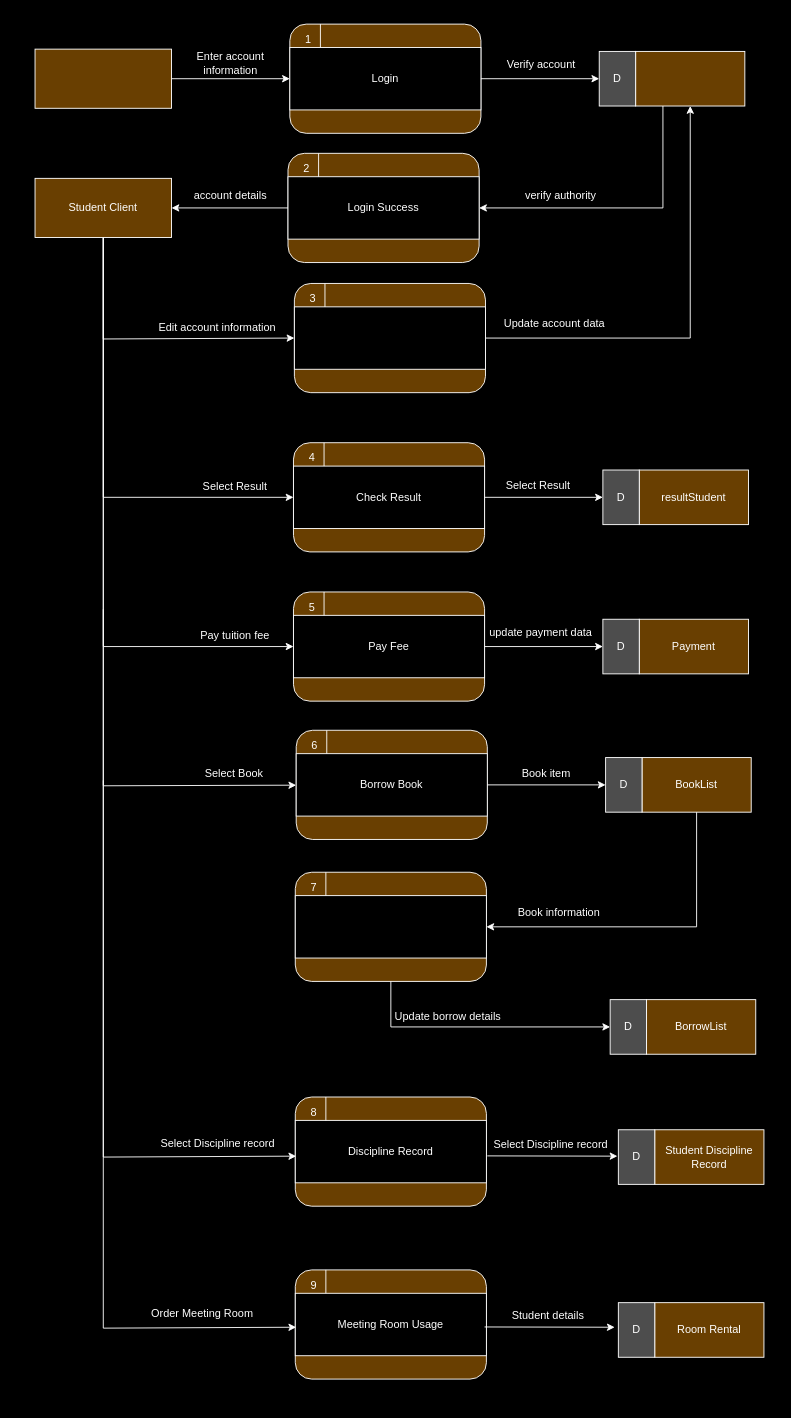
Image size: 791x1418. Some labels were removed from this diagram. Each missing label, with the centre of its shape:
accountStudent: pixel 690 78
Edit Account: pixel 389 337
Process Borrow: pixel 390 926
Student: pixel 103 78
